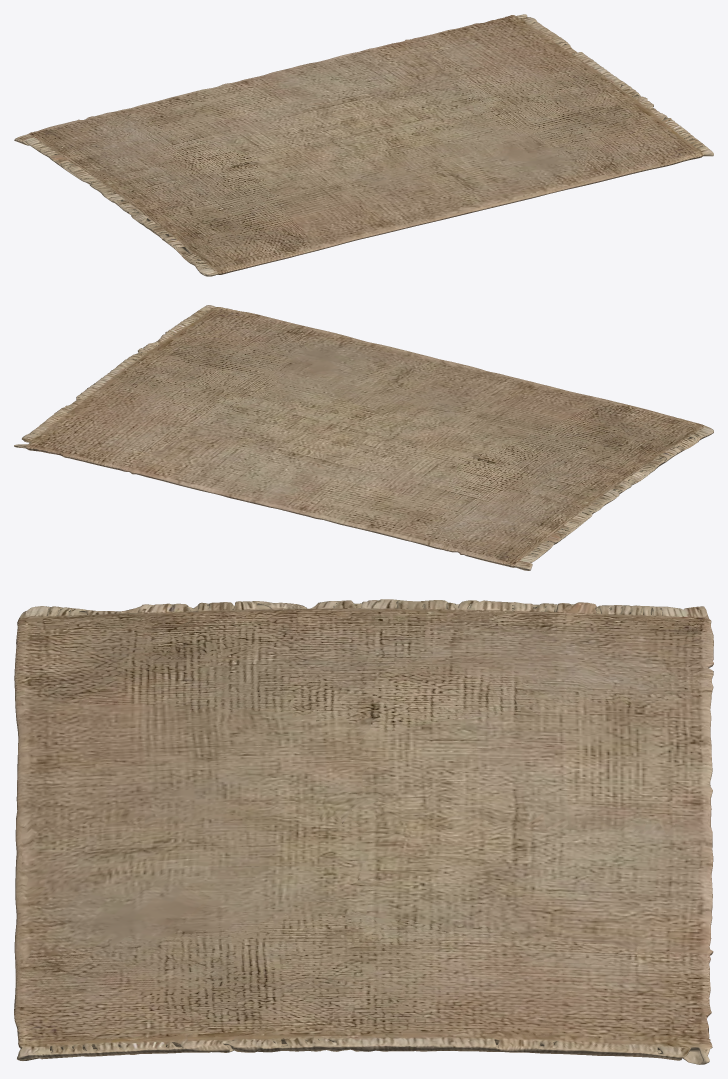
File: rug.glb
The picture shows the model from 3 angles, top to bottom: view 1: azimuth 30°, elevation 25°; view 2: azimuth 150°, elevation 25°; view 3: azimuth 270°, elevation 25°; orthographic projection. The views are drawn at different scales.
Parts seen in each view (by area): view 1: tripo_node_2aa42d6b-2f70-4cd1-885e-bc1fabf103eb; view 2: tripo_node_2aa42d6b-2f70-4cd1-885e-bc1fabf103eb; view 3: tripo_node_2aa42d6b-2f70-4cd1-885e-bc1fabf103eb.
Boxes of the visible parts, <box> form: tripo_node_2aa42d6b-2f70-4cd1-885e-bc1fabf103eb: <box>14,14,713,276</box>; tripo_node_2aa42d6b-2f70-4cd1-885e-bc1fabf103eb: <box>14,305,713,570</box>; tripo_node_2aa42d6b-2f70-4cd1-885e-bc1fabf103eb: <box>14,599,713,1064</box>.
Size of the model in its own units: 1 by 0.0232 by 0.6522.
1 material, 1 textured.
